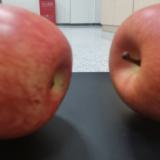apple: (1, 2, 72, 138), (109, 3, 160, 123)
